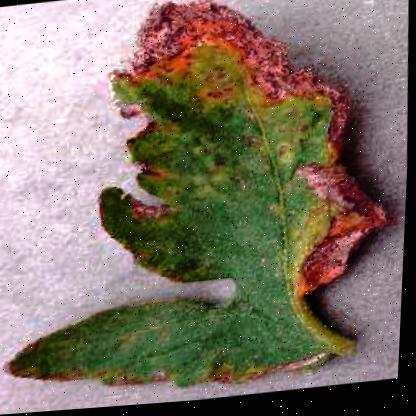BACTERIAL SPOT: (0, 0, 412, 415)
